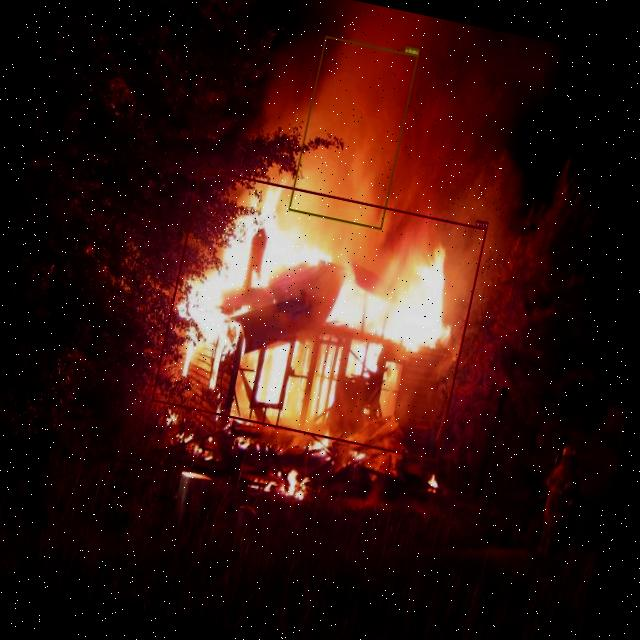fire: (151, 167, 487, 461)
smoke: (288, 35, 418, 230)
